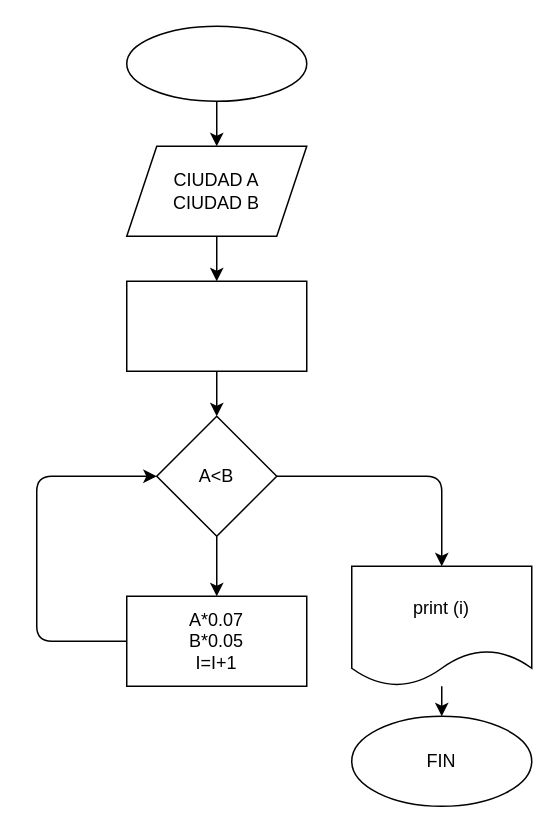
Image size: 558x833. Some labels were removed from this diagram. The box of each missing label's shape, as (x1, y1, x2, y2) in pixels:
I=I+1: (125, 280, 307, 371)
INICIO: (125, 25, 307, 101)
